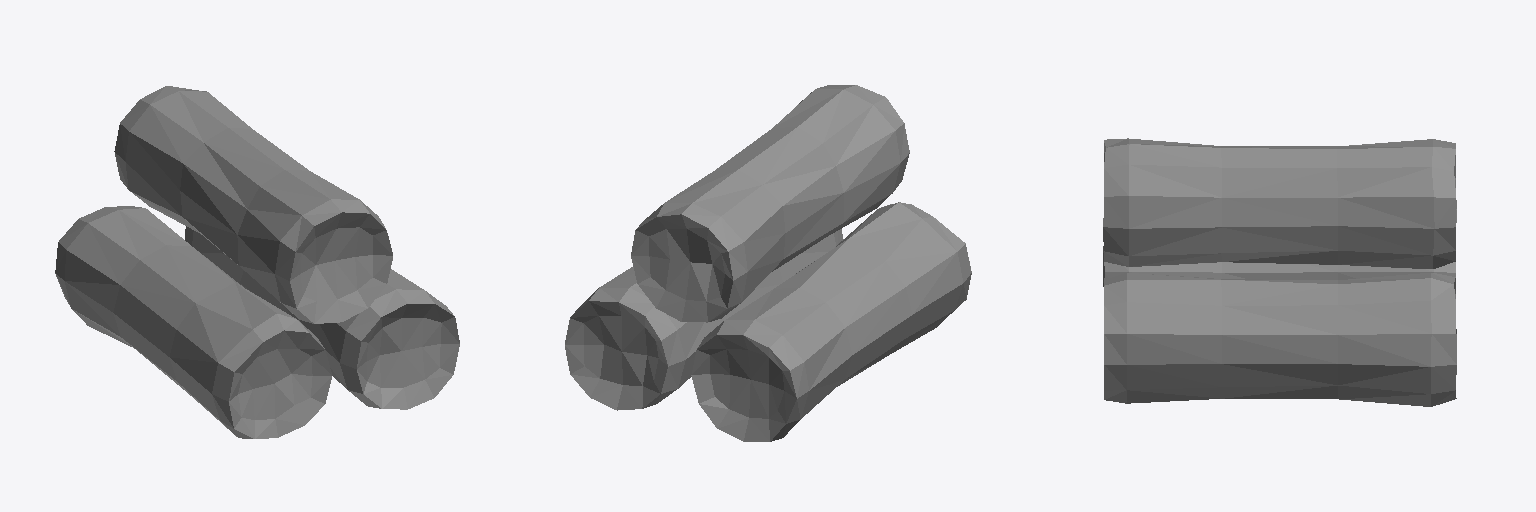
Rendered from logs.obj.
3 views of the same model, side by side, from view 1: azimuth 30°, elevation 25°; view 2: azimuth 150°, elevation 25°; view 3: azimuth 270°, elevation 25° (orthographic).
Visible parts, largest first — view 1: logs; view 2: logs; view 3: logs.
Part boxes in pixels (left/top/right/bottom): logs: left=55, top=86, right=459, bottom=438; logs: left=565, top=85, right=971, bottom=441; logs: left=1103, top=138, right=1456, bottom=406.
Size of the model in its own units: 57.55 by 51.24 by 73.45.